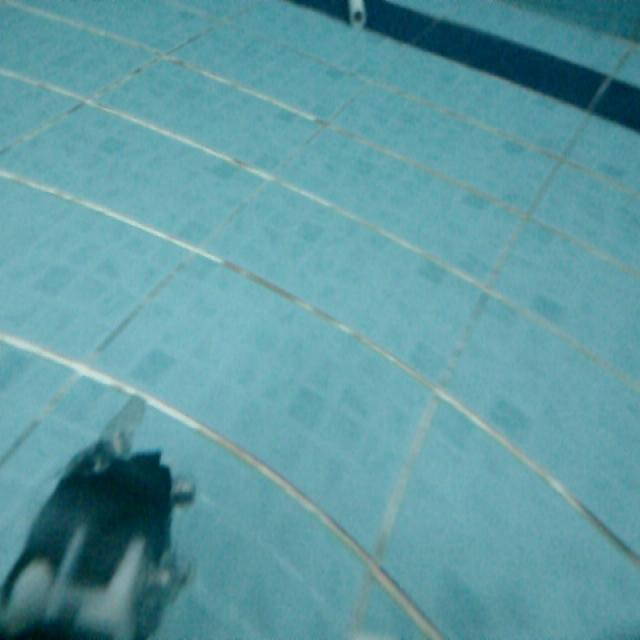Cube: (344, 0, 368, 34)
